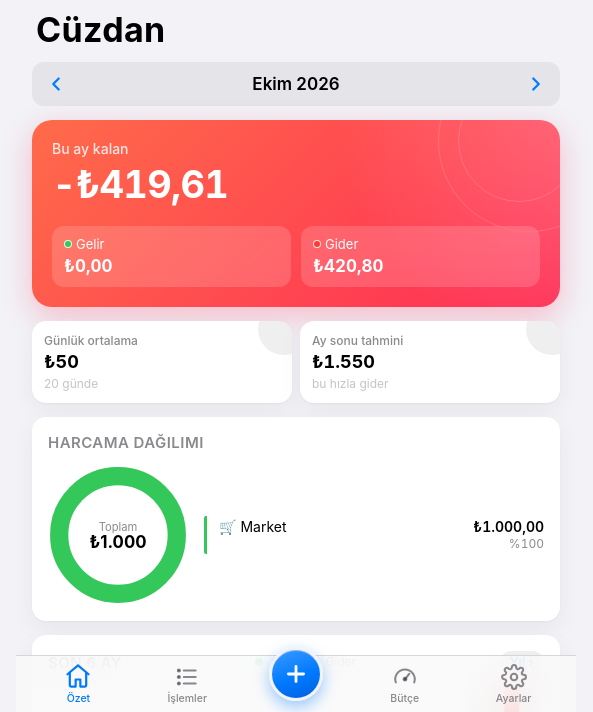
it: Cüzdan › bütçede ay sonuna kadar günlük harcama hakkını gösterir
Click the button "Bütçe" at (405, 685), box top-left (350, 662), bottom-right (459, 708)
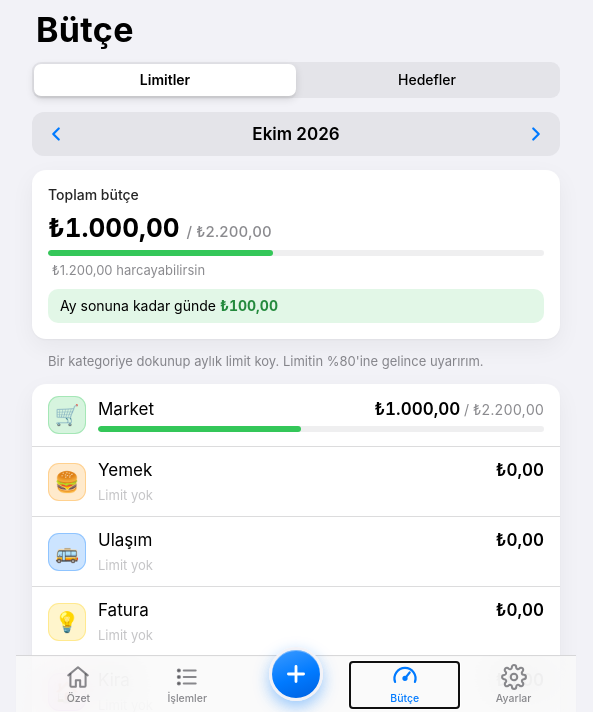
Expected: the text "Ay sonuna kadar günde ₺100,00" is shown, top-left (48, 289), bottom-right (544, 324)
